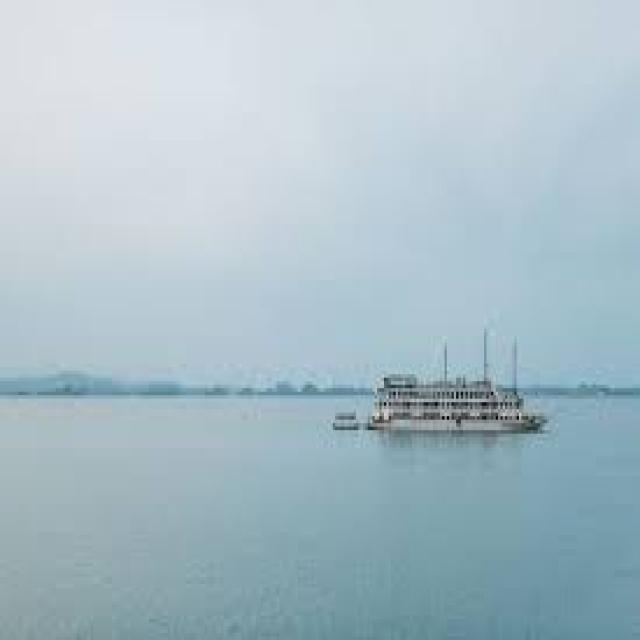passenger ship: (355, 350, 538, 434)
